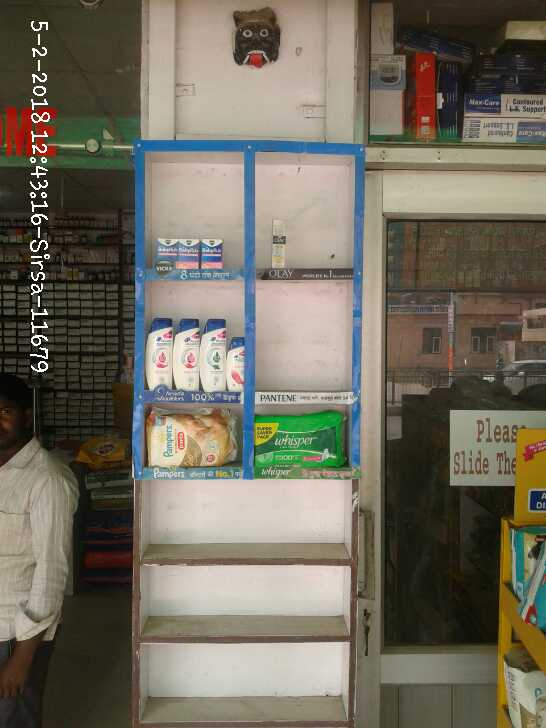beauty: (146, 311, 172, 395), (174, 319, 200, 391), (199, 317, 222, 395), (228, 342, 247, 397), (272, 217, 288, 272)
pharmacy: (143, 410, 242, 474), (252, 410, 346, 468), (176, 236, 202, 274), (202, 234, 225, 264), (157, 238, 175, 267)
